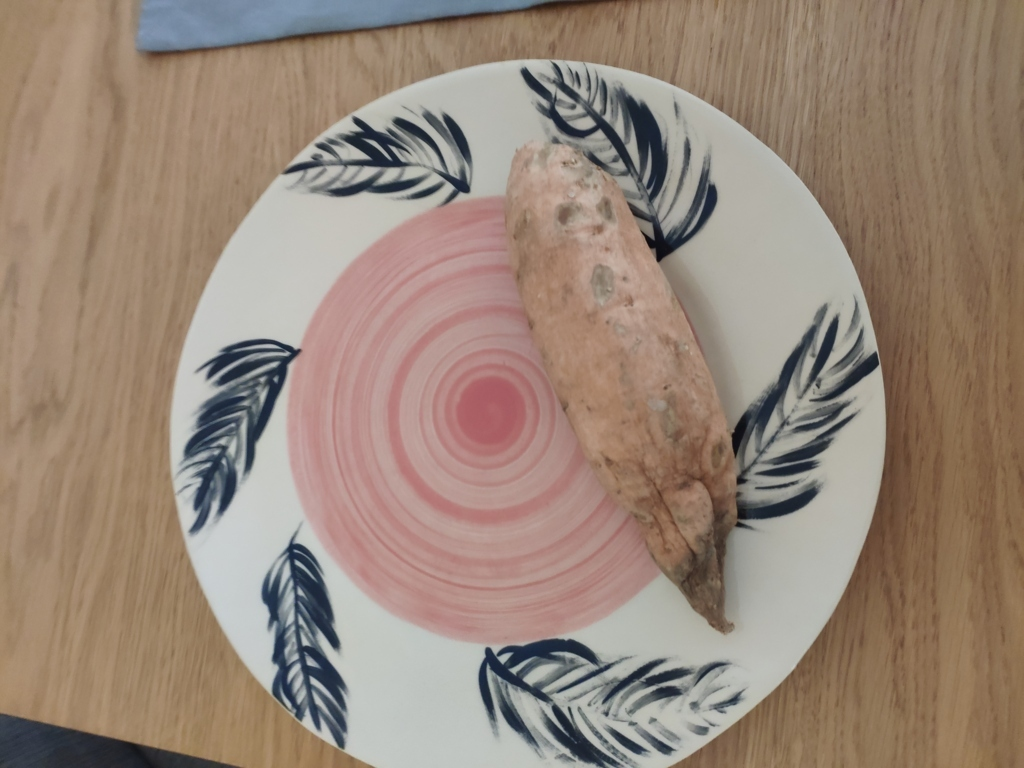Sweet Potato: (488, 170, 737, 580)
